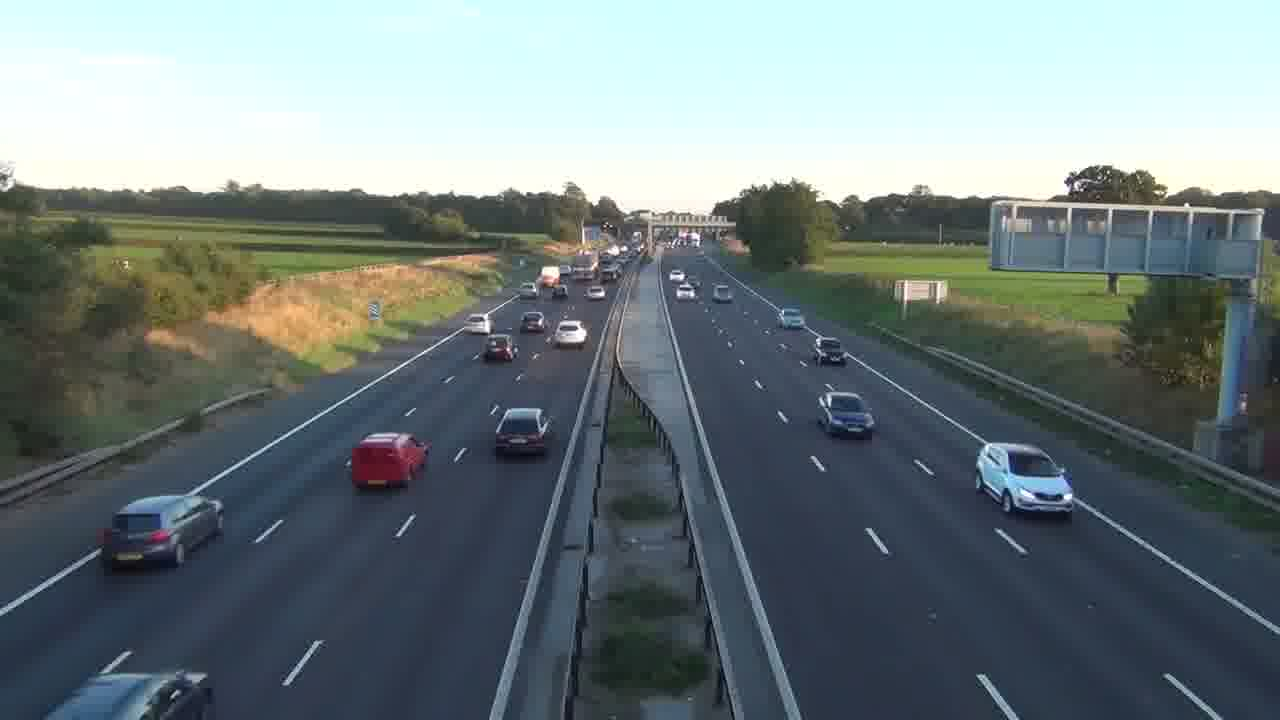car: (101, 493, 225, 572), (975, 441, 1075, 519), (816, 391, 878, 439), (494, 407, 553, 456), (553, 319, 589, 349), (521, 311, 547, 334), (713, 283, 733, 302)
truck: (350, 431, 431, 491)
